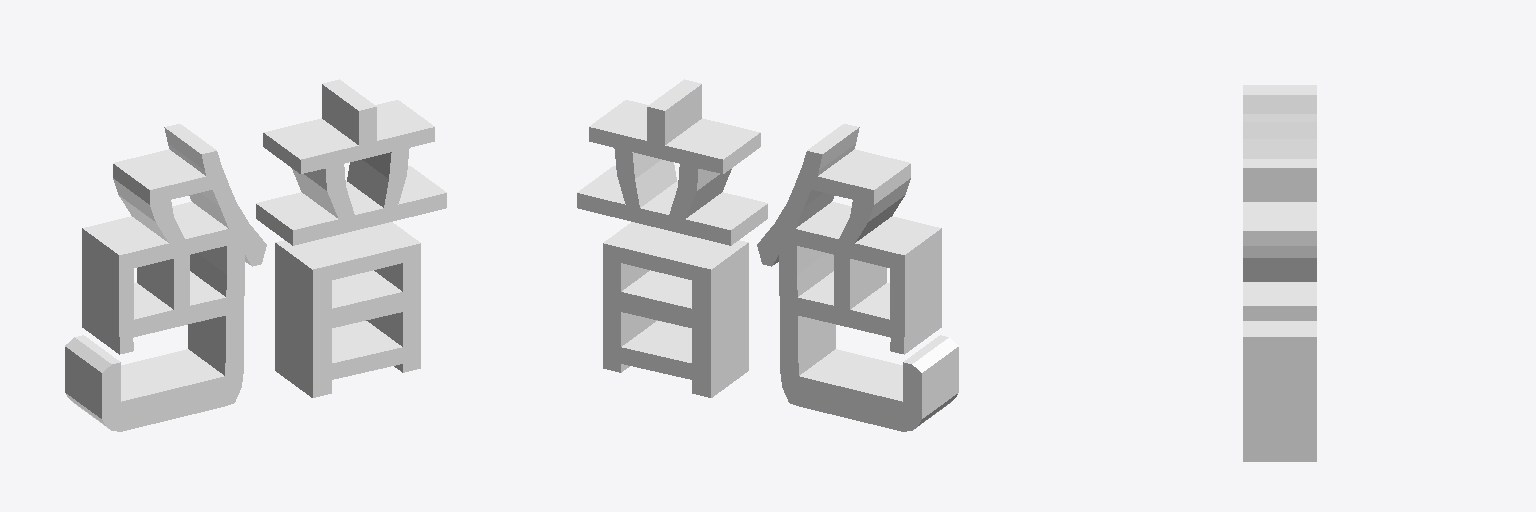
3 renders of one model, left to right at view 1: azimuth 30°, elevation 25°; view 2: azimuth 150°, elevation 25°; view 3: azimuth 270°, elevation 25°, orthographic.
Visible parts, largest first — view 1: Cube; view 2: Cube; view 3: Cube.
Boxes of the visible parts, x1=… form: Cube: x1=65, y1=79, x2=446, y2=431; Cube: x1=577, y1=79, x2=958, y2=431; Cube: x1=1243, y1=85, x2=1316, y2=461.
Bounding box in the file's own units: 1.42 × 1.09 × 0.2654.
1 materials, 1 textured.